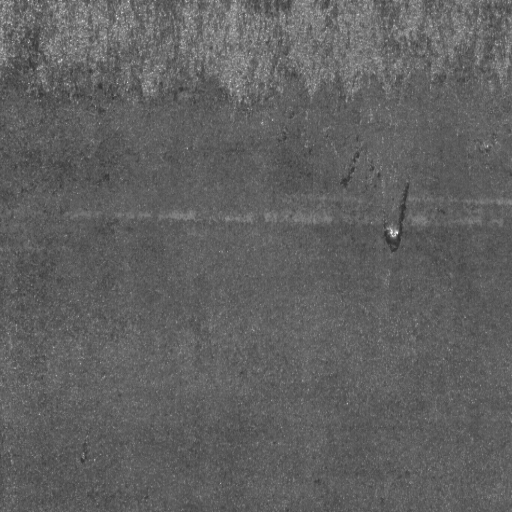aokeng: (378, 217, 404, 256)
